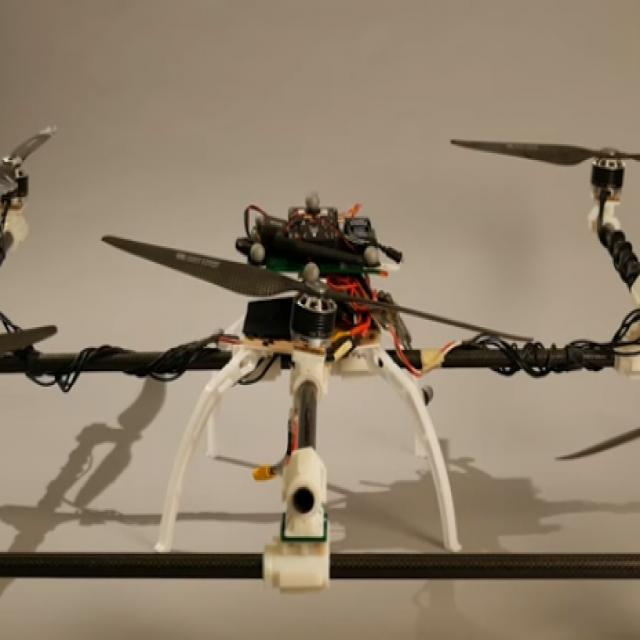drone: (0, 88, 640, 610)
